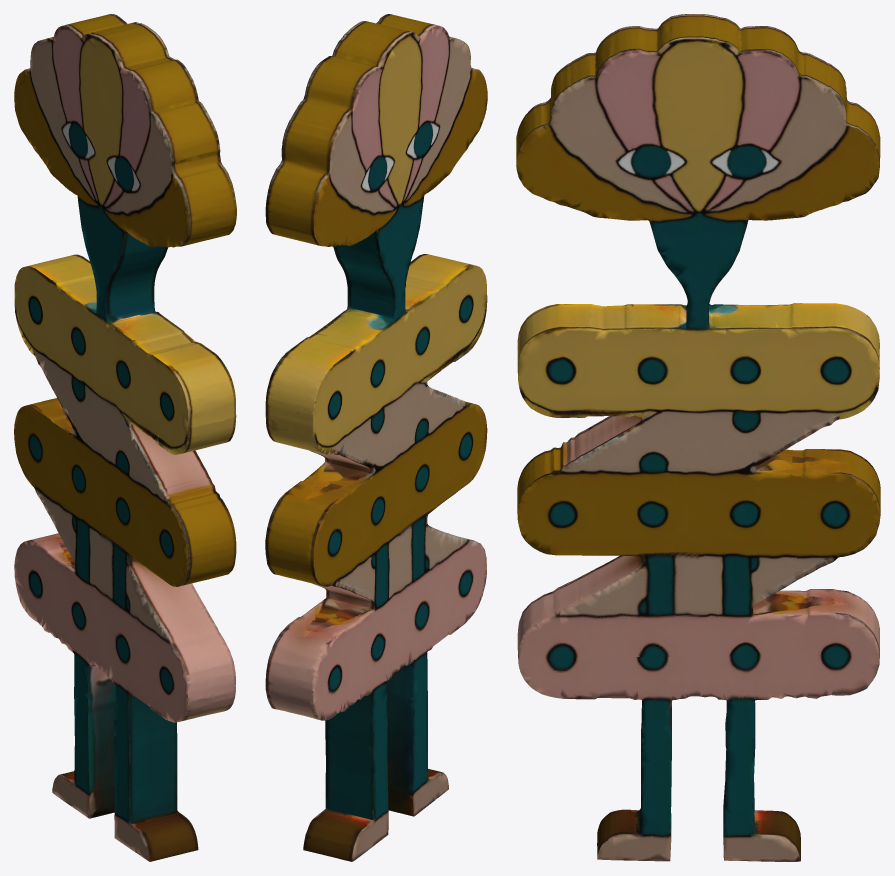
The model's file is flowerred pal 2.glb.
3 renders of one model, left to right at view 1: azimuth 30°, elevation 25°; view 2: azimuth 150°, elevation 25°; view 3: azimuth 270°, elevation 25°, orthographic. The views are drawn at different scales.
Visible parts, largest first — view 1: tripo_node_443adb88-834d-40f3-ab79-ecb09e2180bf; view 2: tripo_node_443adb88-834d-40f3-ab79-ecb09e2180bf; view 3: tripo_node_443adb88-834d-40f3-ab79-ecb09e2180bf.
Boxes of the visible parts, bbox=[...] form: tripo_node_443adb88-834d-40f3-ab79-ecb09e2180bf: bbox=[14, 14, 236, 861]; tripo_node_443adb88-834d-40f3-ab79-ecb09e2180bf: bbox=[265, 14, 487, 861]; tripo_node_443adb88-834d-40f3-ab79-ecb09e2180bf: bbox=[516, 14, 880, 861].
Size of the model in its own units: 0.6457 by 10 by 4.01.
1 material, 1 textured.
